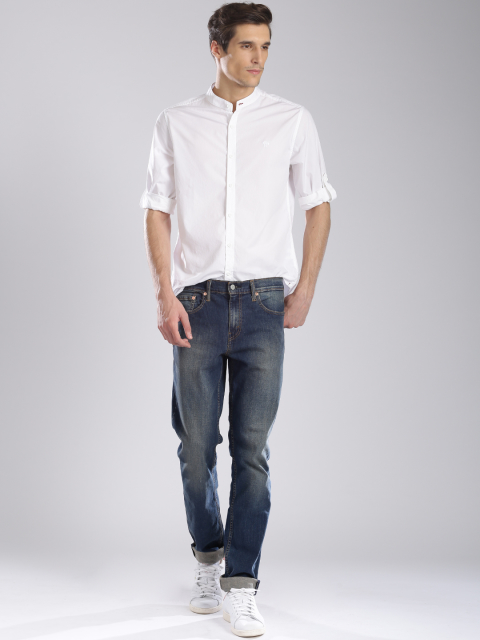jeans: (161, 284, 290, 588)
shirt: (143, 91, 335, 282)
